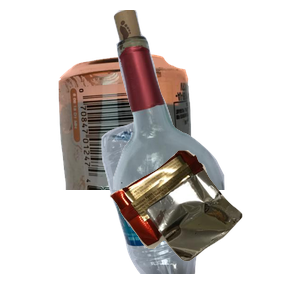glass: (89, 10, 300, 190)
metal: (56, 52, 242, 232)
plastic: (99, 120, 289, 300)
trash: (107, 148, 300, 300)
